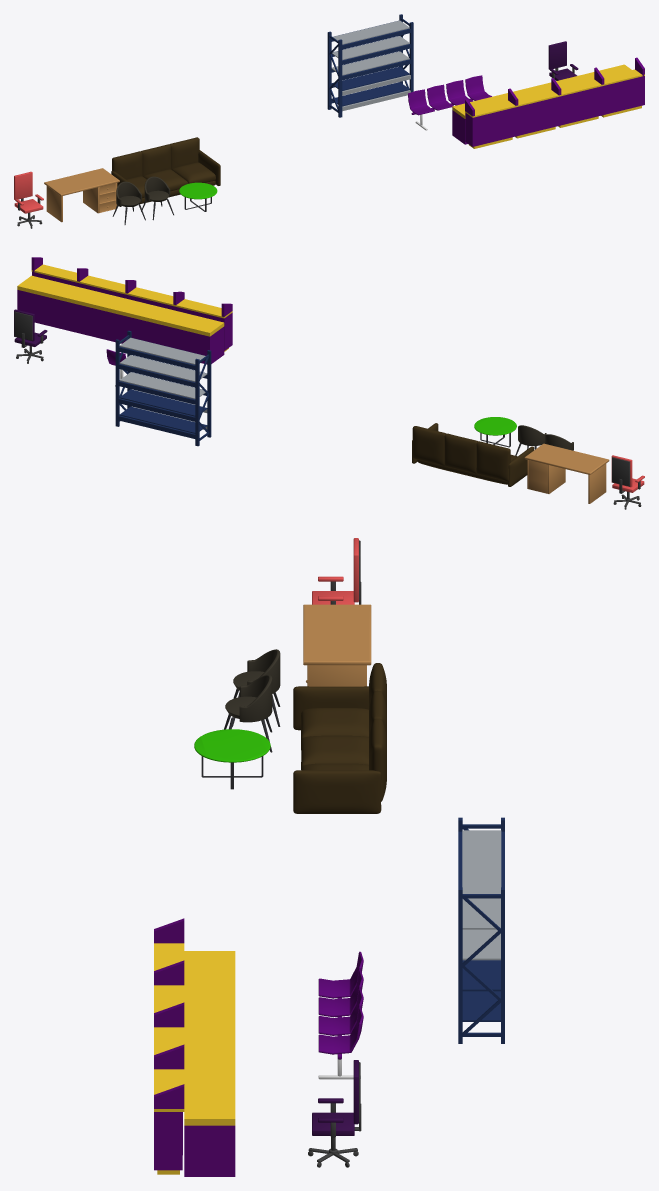
The model's file is scrivania_OP.fbx.
3 renders of one model, top to bottom at view 1: azimuth 30°, elevation 25°; view 2: azimuth 150°, elevation 25°; view 3: azimuth 270°, elevation 25°, orthographic. The views are drawn at different scales.
Parts seen in each view (by area): view 1: Bancone_Cliente, Scaffale, Sofa, Scrivania_capo, Sedia_Fila, Scrivania_OP, Sedia_capo, Sedia_Op, sedia_cafe 2, tavolino, sedia_cafe; view 2: Scrivania_OP, Scaffale, Sofa, Bancone_Cliente, Scrivania_capo, Sedia_capo, Sedia_Op, tavolino, sedia_cafe 2; view 3: Sofa, Scrivania_OP, Scaffale, Bancone_Cliente, Scrivania_capo, Sedia_Fila, tavolino, Sedia_Op, sedia_cafe 2, Sedia_capo, sedia_cafe.
Boxes of the visible parts, x1=… form: Bancone_Cliente: x1=465, y1=57, x2=644, y2=148; Scaffale: x1=327, y1=14, x2=413, y2=117; Sofa: x1=111, y1=137, x2=220, y2=206; Scrivania_capo: x1=44, y1=168, x2=119, y2=222; Sedia_Fila: x1=408, y1=75, x2=491, y2=130; Scrivania_OP: x1=452, y1=64, x2=631, y2=144; Sedia_capo: x1=14, y1=171, x2=43, y2=228; Sedia_Op: x1=548, y1=41, x2=578, y2=80; sedia_cafe 2: x1=141, y1=176, x2=173, y2=220; tavolino: x1=179, y1=182, x2=217, y2=211; sedia_cafe: x1=112, y1=181, x2=145, y2=224; Scrivania_OP: x1=17, y1=275, x2=224, y2=364; Scaffale: x1=115, y1=330, x2=211, y2=446; Sofa: x1=412, y1=423, x2=534, y2=486; Bancone_Cliente: x1=31, y1=257, x2=232, y2=351; Scrivania_capo: x1=524, y1=443, x2=609, y2=503; Sedia_capo: x1=611, y1=455, x2=644, y2=509; Sedia_Op: x1=14, y1=309, x2=47, y2=363; tavolino: x1=474, y1=417, x2=516, y2=447; sedia_cafe 2: x1=515, y1=425, x2=546, y2=455; Sofa: x1=293, y1=663, x2=386, y2=813; Scrivania_OP: x1=184, y1=951, x2=235, y2=1176; Scaffale: x1=458, y1=817, x2=504, y2=1043; Bancone_Cliente: x1=154, y1=918, x2=184, y2=1174; Scrivania_capo: x1=303, y1=604, x2=371, y2=686; Sedia_Fila: x1=318, y1=951, x2=363, y2=1079; tavolino: x1=194, y1=729, x2=270, y2=789; Sedia_Op: x1=308, y1=1060, x2=361, y2=1167; sedia_cafe 2: x1=224, y1=675, x2=272, y2=752; Sedia_capo: x1=312, y1=538, x2=361, y2=604; sedia_cafe: x1=232, y1=649, x2=280, y2=726.
Size of the model in its own units: 1583 by 207 by 413.
